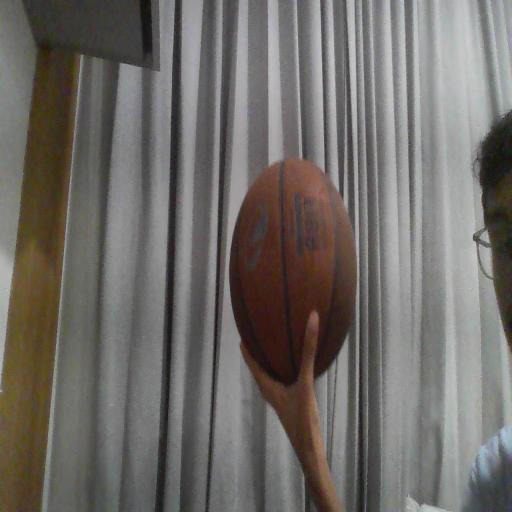basketball: (230, 159, 356, 384)
